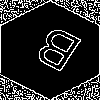B: (25, 25, 85, 81)
